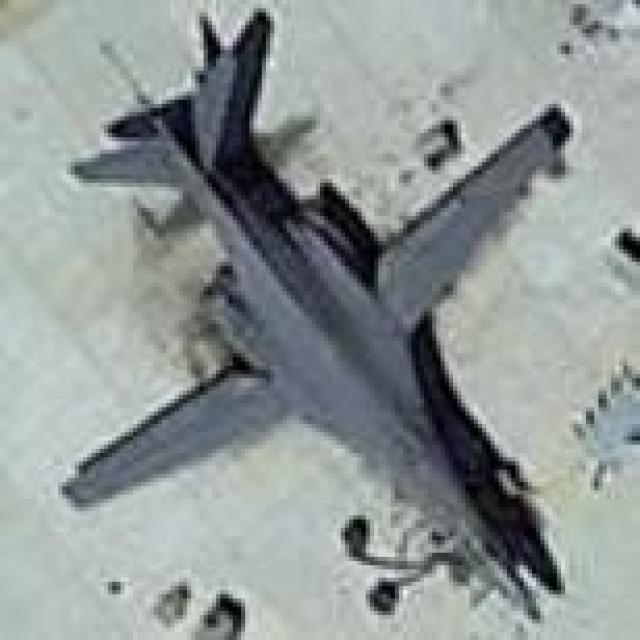B-1_TopDown: (54, 4, 578, 624)
